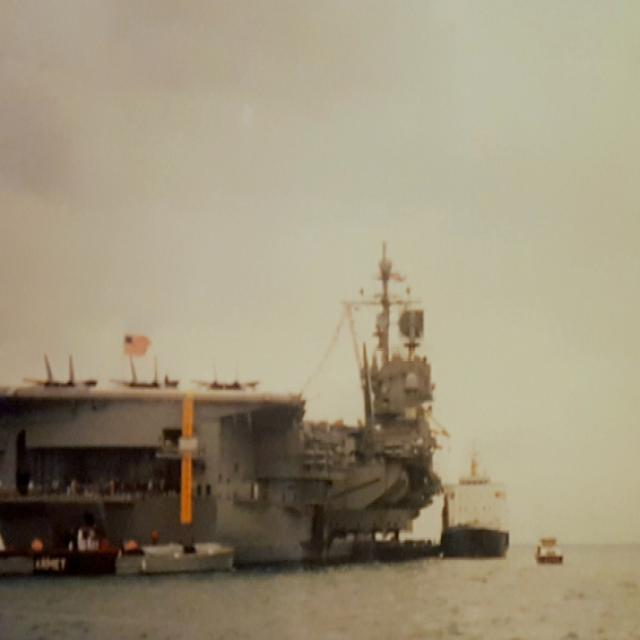Portanaves: (1, 222, 489, 582)
